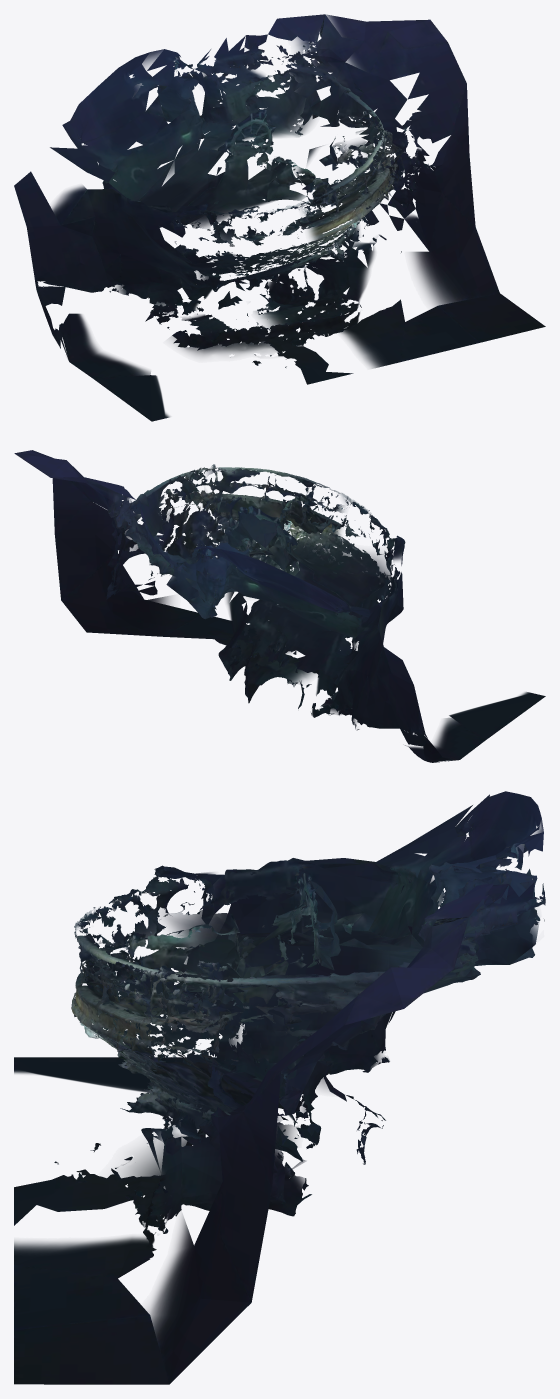
Rendered from endurance_wreck_schmauss.glb.
3 renders of one model, top to bottom at view 1: azimuth 30°, elevation 25°; view 2: azimuth 150°, elevation 25°; view 3: azimuth 270°, elevation 25°, orthographic. The views are drawn at different scales.
Parts seen in each view (by area): view 1: Object_4; view 2: Object_4; view 3: Object_4.
Boxes of the visible parts, x1,y1,x2,y2 form: Object_4: (14,14,545,421); Object_4: (14,450,545,762); Object_4: (14,791,545,1384).
Size of the model in its own units: 2.39 by 1.36 by 1.65.
1 material, 1 textured.
